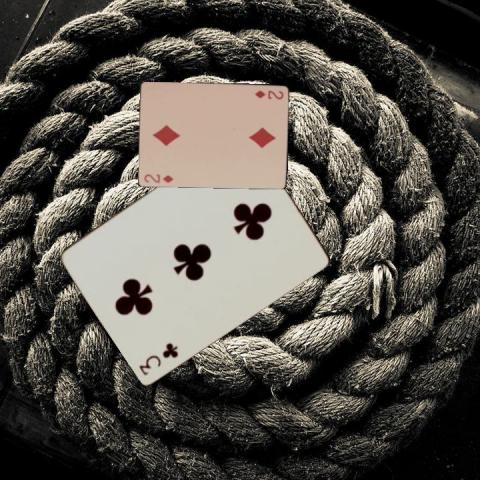2d: (141, 171, 175, 184), (252, 87, 285, 100)
3c: (136, 340, 180, 376)
